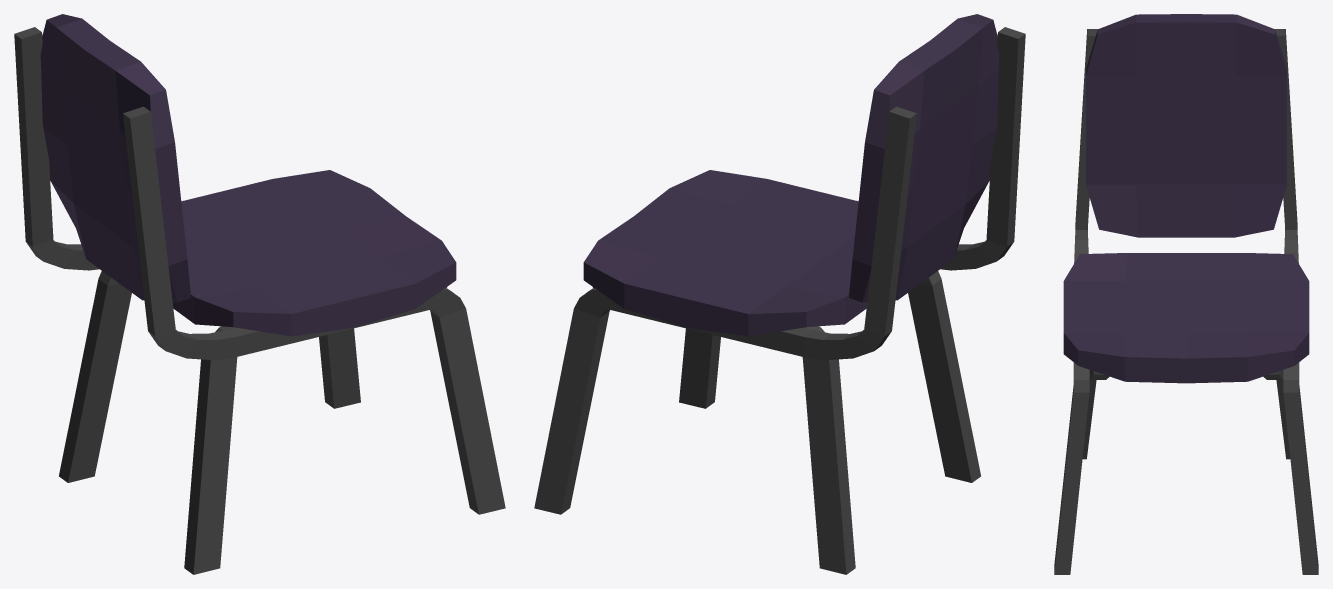
File: breakroom_chair.glb
3 renders of one model, left to right at view 1: azimuth 30°, elevation 25°; view 2: azimuth 150°, elevation 25°; view 3: azimuth 270°, elevation 25°, orthographic. The views are drawn at different scales.
Visible parts, largest first — view 1: Cube.002, Cube, Cube.001; view 2: Cube.002, Cube, Cube.001; view 3: Cube.001, Cube, Cube.002.
Boxes of the visible parts, x1,y1,x2,y2 form: Cube.002: [14, 27, 505, 574]; Cube: [172, 170, 456, 336]; Cube.001: [40, 14, 190, 302]; Cube.002: [534, 27, 1025, 574]; Cube: [583, 170, 867, 336]; Cube.001: [849, 14, 999, 302]; Cube.001: [1086, 14, 1286, 237]; Cube: [1063, 253, 1309, 383]; Cube.002: [1054, 29, 1318, 574].
Size of the model in its own units: 0.6316 by 0.8283 by 0.4724.
